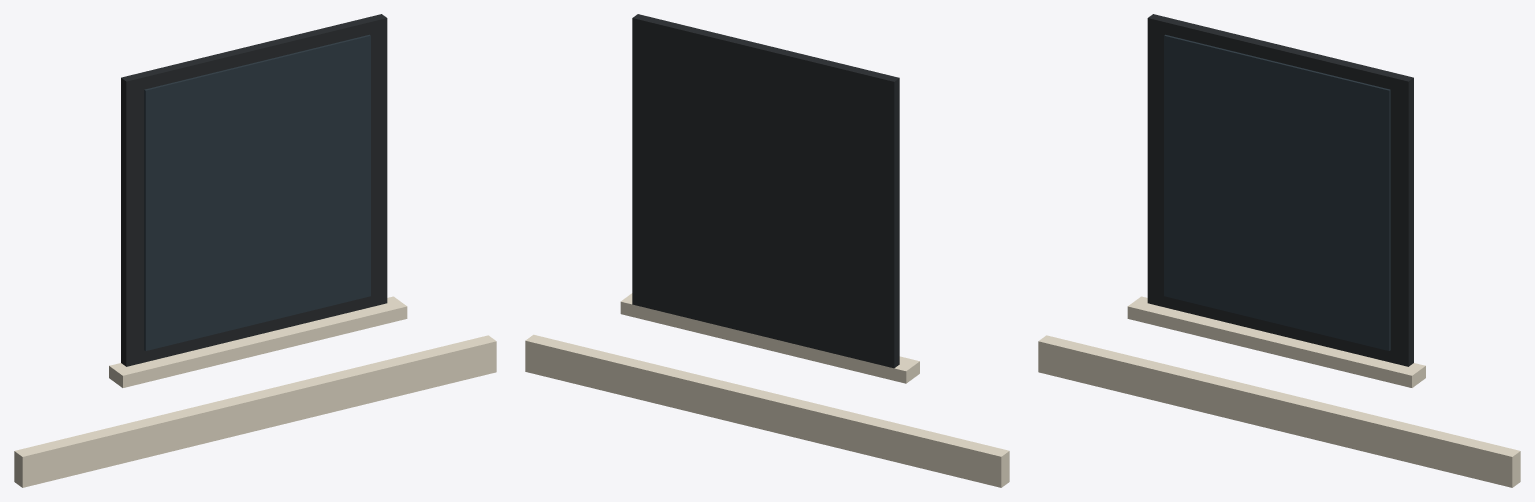
Rendered from window-bay.glb.
3 views of the same model, side by side, from view 1: azimuth 30°, elevation 25°; view 2: azimuth 150°, elevation 25°; view 3: azimuth 330°, elevation 25° (orthographic).
Visible parts, largest first — view 1: window-bay; view 2: window-bay; view 3: window-bay.
Boxes of the visible parts, x1,y1,x2,y2 form: window-bay: [14, 14, 496, 487]; window-bay: [525, 14, 1009, 487]; window-bay: [1038, 14, 1520, 487].
Size of the model in its own units: 4 by 3.05 by 0.2.
